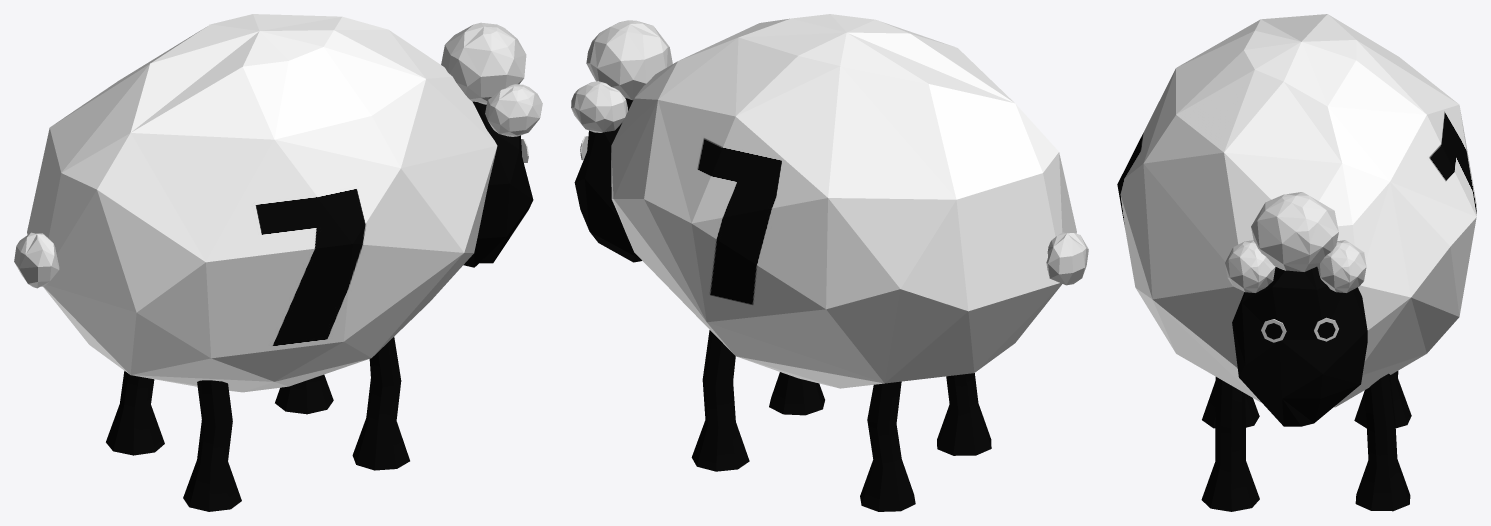
File: sheep7.fbx
The picture shows the model from 3 angles, left to right: view 1: azimuth 30°, elevation 25°; view 2: azimuth 150°, elevation 25°; view 3: azimuth 270°, elevation 25°; orthographic projection.
Visible parts, largest first — view 1: pSphere1, pSphere7, pSphere4, pCylinder1, pCylinder5, pCylinder7, pSphere8, pSphere3, pCylinder6; view 2: pSphere1, pCylinder6, pSphere7, pCylinder7, pSphere4, pCylinder1, pSphere9, pSphere3, pCylinder5; view 3: pSphere1, pSphere4, pSphere7, pCylinder5, pCylinder6, pSphere8, pSphere9, pCylinder7, pCylinder1.
Part boxes in pixels (x1,y1,x2,y2): pSphere1: (27, 14, 497, 392); pSphere7: (441, 22, 526, 104); pSphere4: (463, 101, 533, 267); pCylinder1: (183, 380, 241, 511); pCylinder5: (352, 337, 409, 470); pCylinder7: (106, 371, 164, 455); pSphere8: (485, 84, 542, 136); pSphere3: (14, 232, 59, 288); pCylinder6: (275, 374, 333, 414); pSphere1: (611, 14, 1076, 388); pCylinder6: (691, 330, 749, 471); pSphere7: (586, 20, 672, 100); pCylinder7: (860, 381, 915, 511); pSphere4: (574, 98, 641, 262); pCylinder1: (937, 373, 991, 455); pSphere9: (571, 81, 627, 132); pSphere3: (1046, 232, 1088, 285); pCylinder5: (769, 372, 824, 415); pSphere1: (1117, 14, 1476, 407); pSphere4: (1232, 266, 1367, 426); pSphere7: (1251, 192, 1338, 271); pCylinder5: (1201, 378, 1259, 511); pCylinder6: (1355, 373, 1410, 511); pSphere8: (1225, 240, 1275, 292); pSphere9: (1317, 240, 1366, 292); pCylinder7: (1354, 371, 1411, 428); pCylinder1: (1202, 377, 1259, 428).
Bounding box in the file's own units: 3.08 × 2.46 × 1.93.
Materials: 3 (1 with a texture image).
